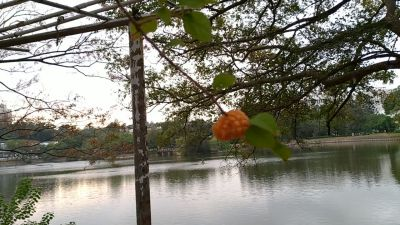eggs: (212, 108, 250, 144)
